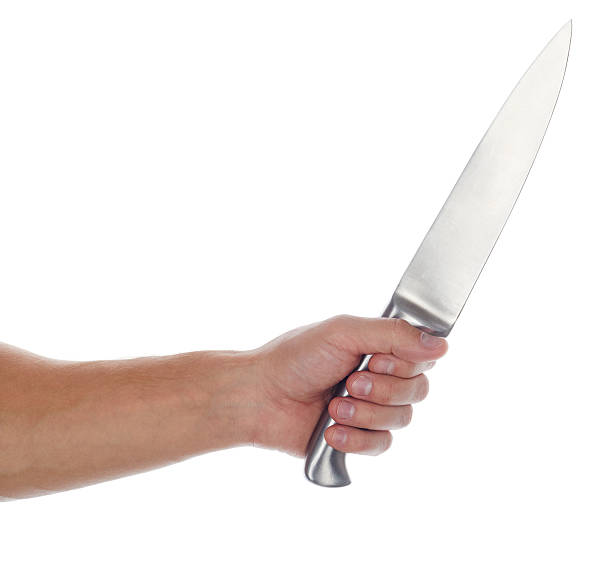knife: (299, 17, 574, 490)
